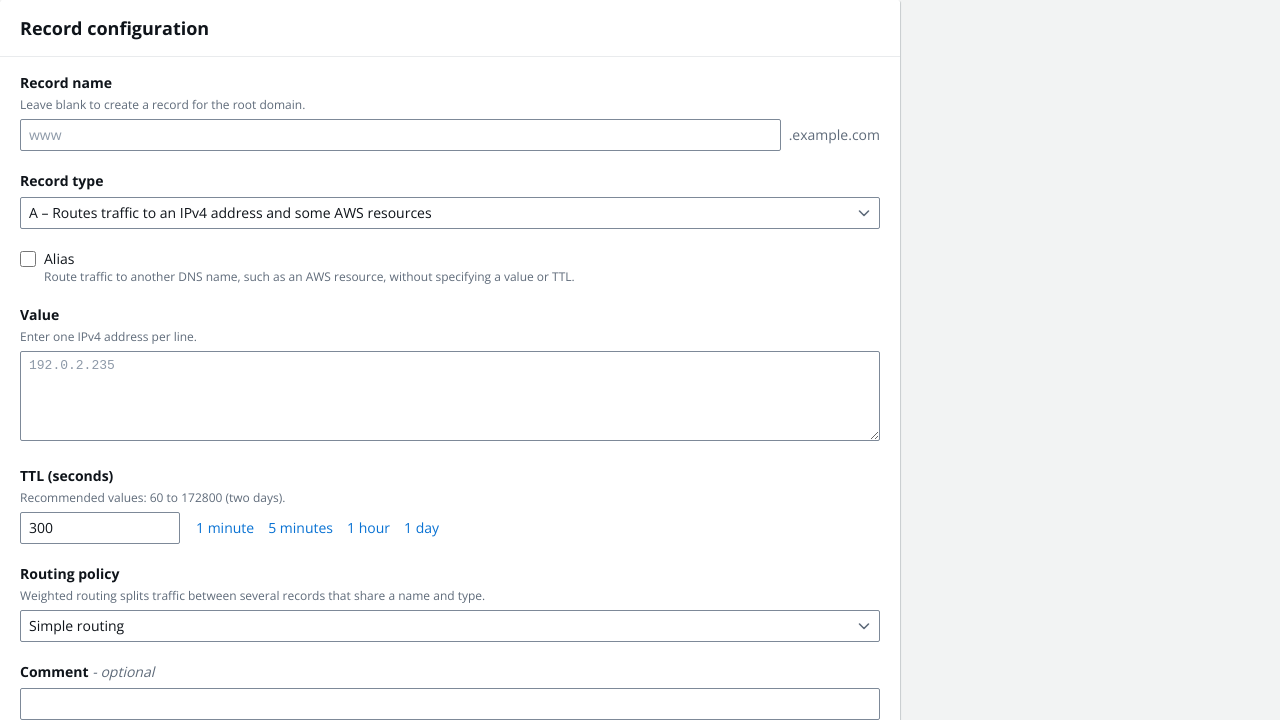
<RecordForm> dynamic fields › replaces value and TTL fields with a target when alias is on
Click the checkbox labelled "Alias" at (28, 259), box x1=20 y1=251 x2=36 y2=267
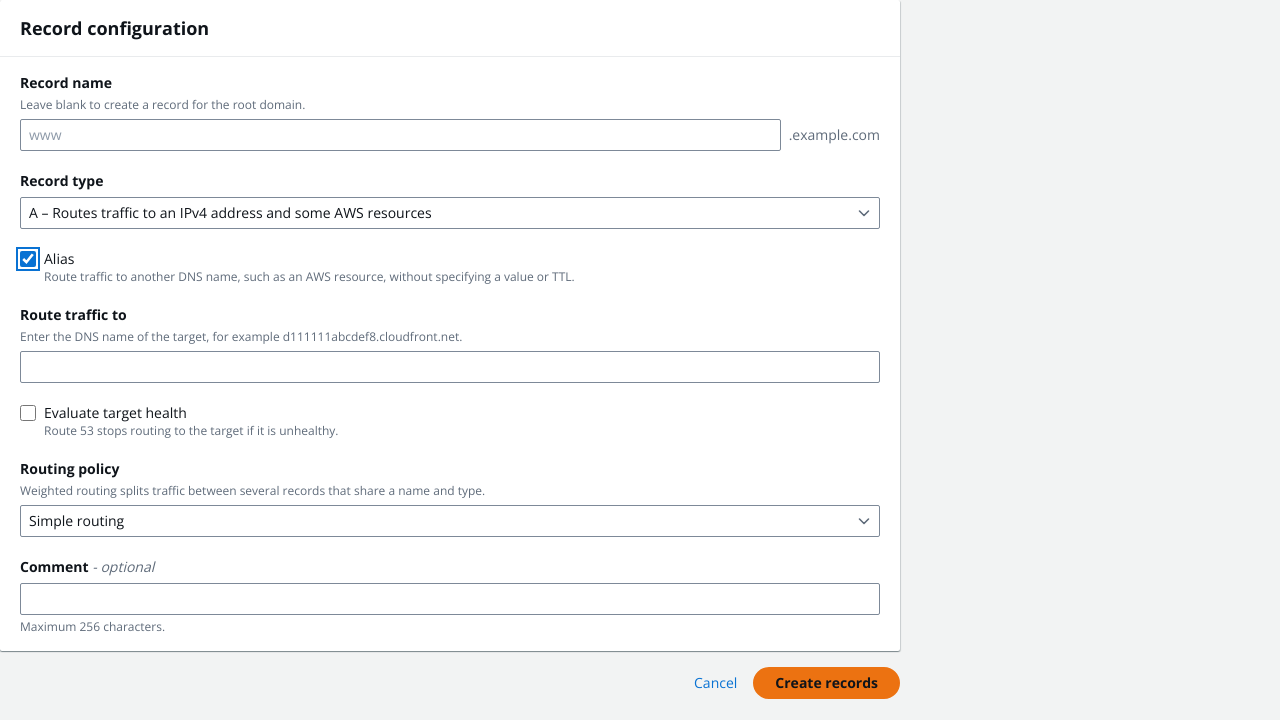
Now the field labelled "Route traffic to" is shown, box x1=20 y1=351 x2=880 y2=383
Now the label labelled "TTL (seconds)" is gone
